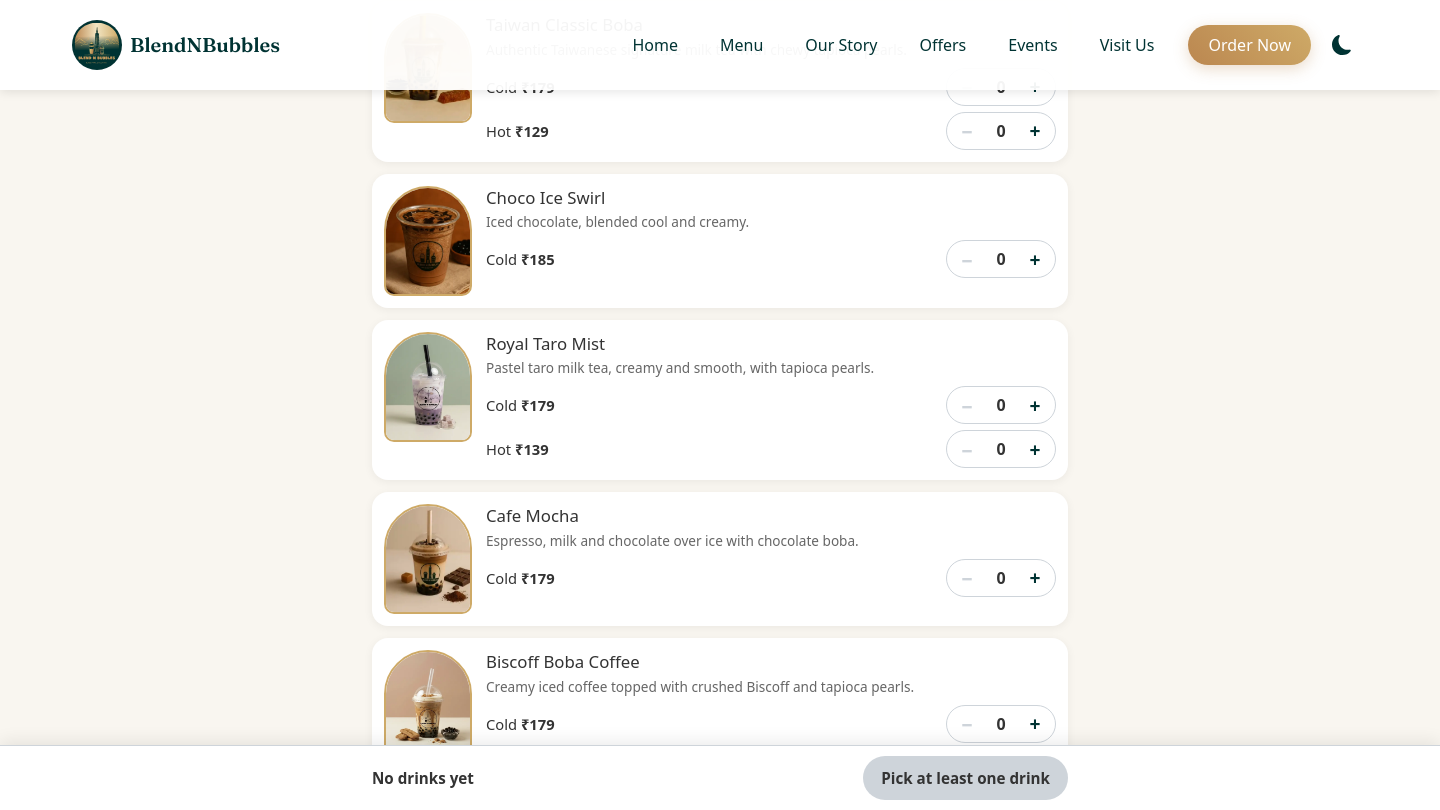
Test case: partner order page › below ₹199 it bills the full price and says how much more gets the discount
The image size is (1440, 810).
(page scrolled)
Click the button named "Add one Royal Taro Mist cold" at (1035, 406), box [1015,388,1055,424]
(page scrolled)
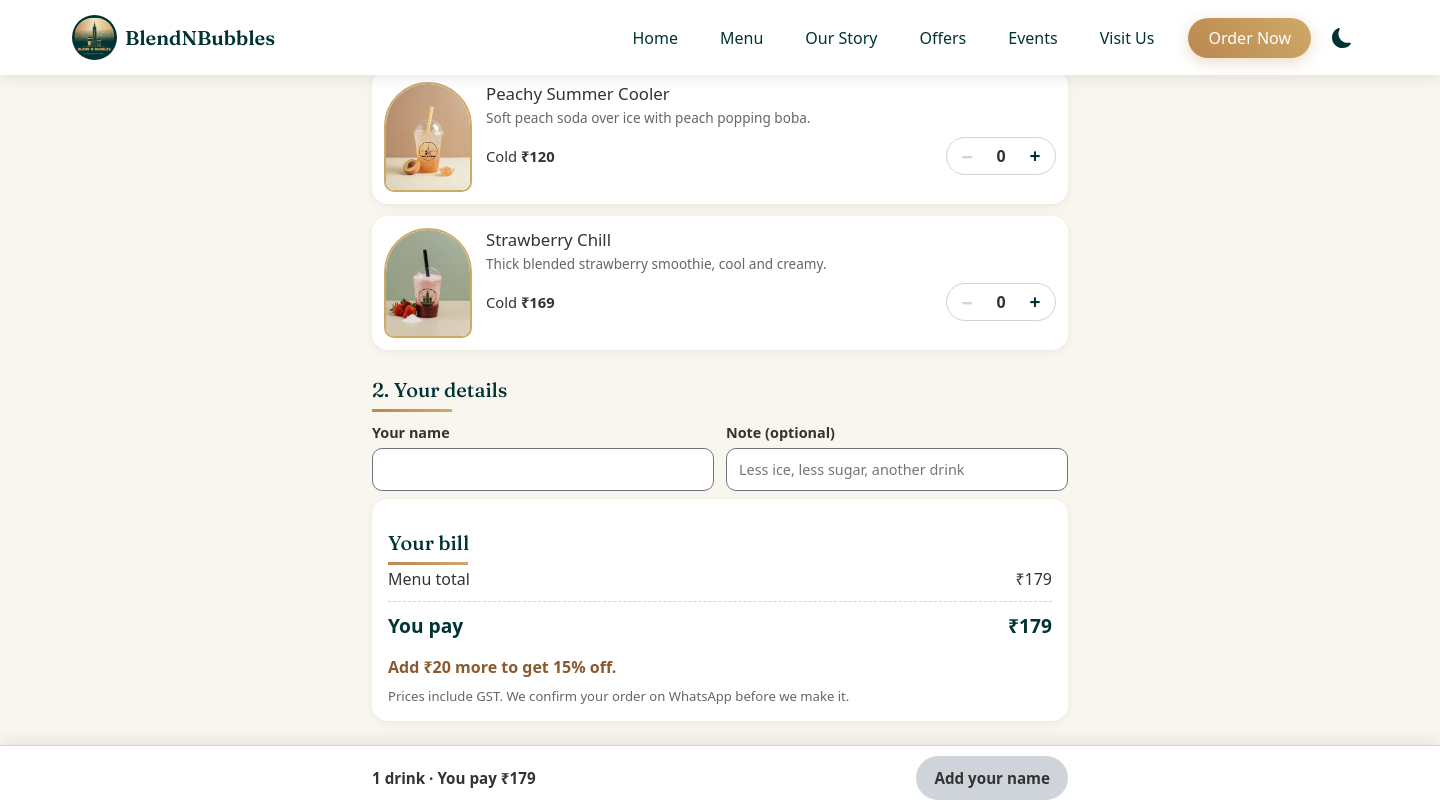
Now the text with test id "partner-amount-to-pay" reads "₹179", box [1008,612,1052,641]
Now the text "Add ₹20 more to get 15% off." is shown, box [388,656,616,678]
